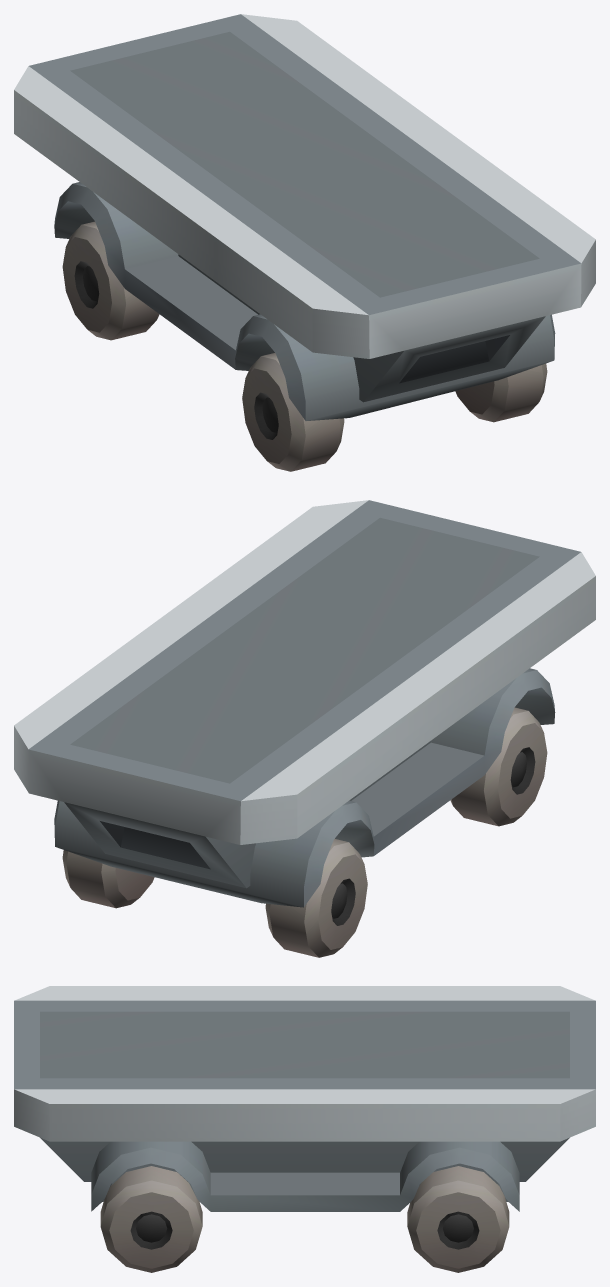
File: spacetruck-trailer.glb
3 renders of one model, top to bottom at view 1: azimuth 30°, elevation 25°; view 2: azimuth 150°, elevation 25°; view 3: azimuth 270°, elevation 25°, orthographic. The views are drawn at different scales.
Parts seen in each view (by area): view 1: Cube.15126, spacetruck_trailer_wheel_front_right, spacetruck_trailer_wheel_rear_right, spacetruck_trailer_wheel_front_left; view 2: Cube.15126, spacetruck_trailer_wheel_rear_right, spacetruck_trailer_wheel_front_right, spacetruck_trailer_wheel_rear_left; view 3: Cube.15126, spacetruck_trailer_wheel_front_left, spacetruck_trailer_wheel_rear_left.
Part boxes in pixels (<box>): Cube.15126: <box>14,14,595,420</box>; spacetruck_trailer_wheel_front_right: <box>242,353,344,471</box>; spacetruck_trailer_wheel_rear_right: <box>62,221,159,340</box>; spacetruck_trailer_wheel_front_left: <box>455,363,547,422</box>; Cube.15126: <box>14,500,595,907</box>; spacetruck_trailer_wheel_rear_right: <box>265,839,367,957</box>; spacetruck_trailer_wheel_front_right: <box>450,707,547,826</box>; spacetruck_trailer_wheel_rear_left: <box>62,850,154,908</box>; Cube.15126: <box>14,986,595,1211</box>; spacetruck_trailer_wheel_front_left: <box>100,1166,202,1272</box>; spacetruck_trailer_wheel_rear_left: <box>407,1166,509,1272</box>.
Bounding box in the file's own units: 0.48 × 0.3382 × 1.
Materials: 1 (1 with a texture image).
